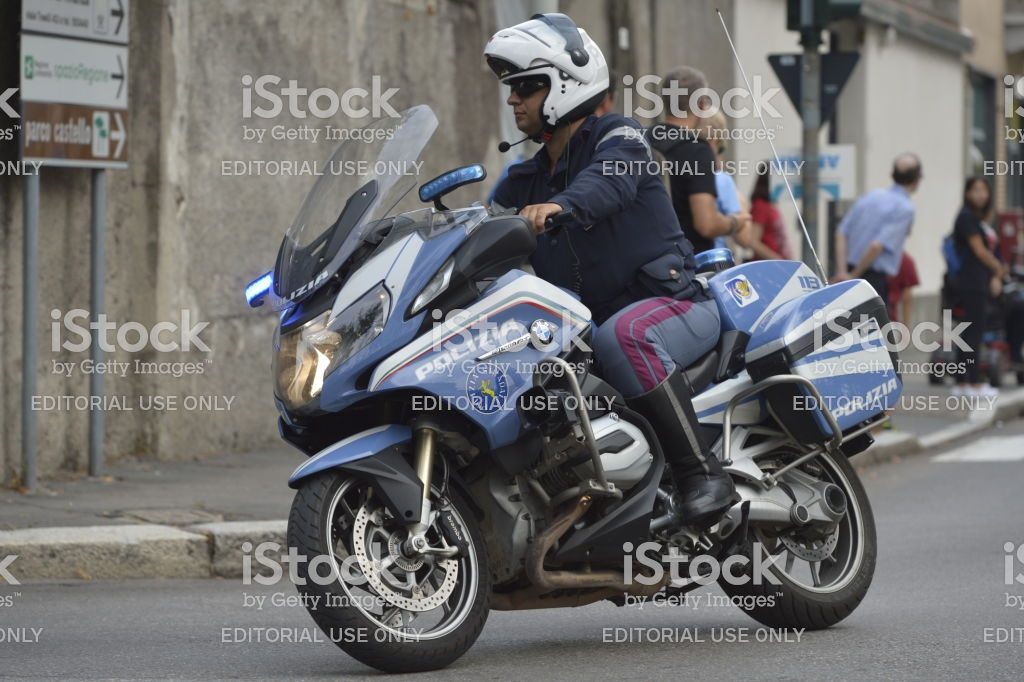helmet: (481, 11, 611, 123)
